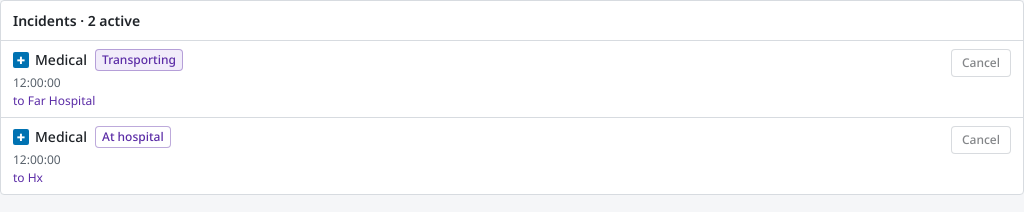
it: IncidentsPanel › shows the transport statuses with the hospital and blocks cancel with a tooltip
Expected: the text "Transporting" is shown, [95,49,183,71]
Expected: the text "At hospital" is shown, [95,126,171,148]
Step 1. Click the button with aria-label "not possible: patient on board" → (981, 63), box [951,49,1011,77]
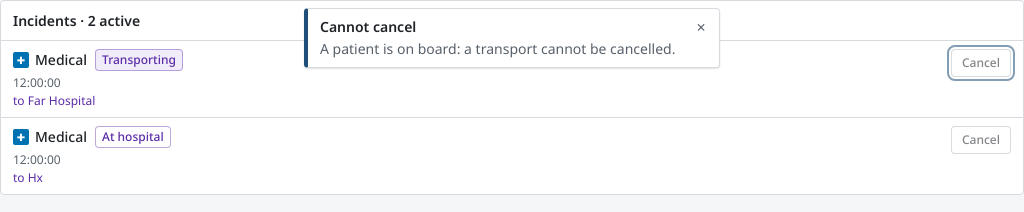
Result: the text "Cannot cancel" is shown at [319,16,416,36]
